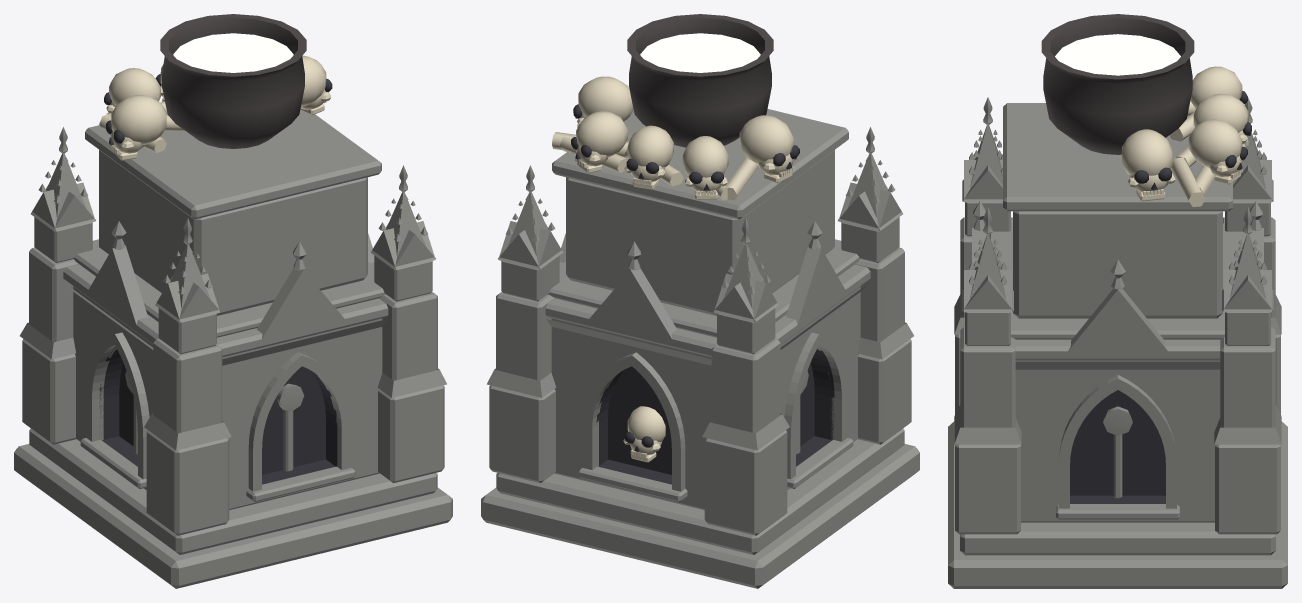
The model's file is tower_altar_1.glb.
3 renders of one model, left to right at view 1: azimuth 30°, elevation 25°; view 2: azimuth 150°, elevation 25°; view 3: azimuth 270°, elevation 25°, orthographic. The views are drawn at different scales.
Parts seen in each view (by area): view 1: tower; view 2: tower; view 3: tower.
Boxes of the visible parts, bbox=[...] form: tower: bbox=[14, 14, 452, 588]; tower: bbox=[481, 14, 919, 588]; tower: bbox=[948, 14, 1287, 588].
Bounding box in the file's own units: 1.7 × 2.61 × 1.7.
